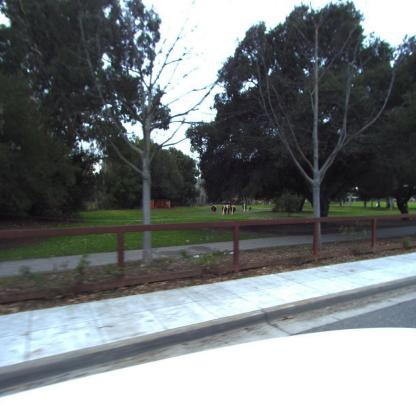person: (212, 203, 217, 213), (231, 204, 236, 214)
